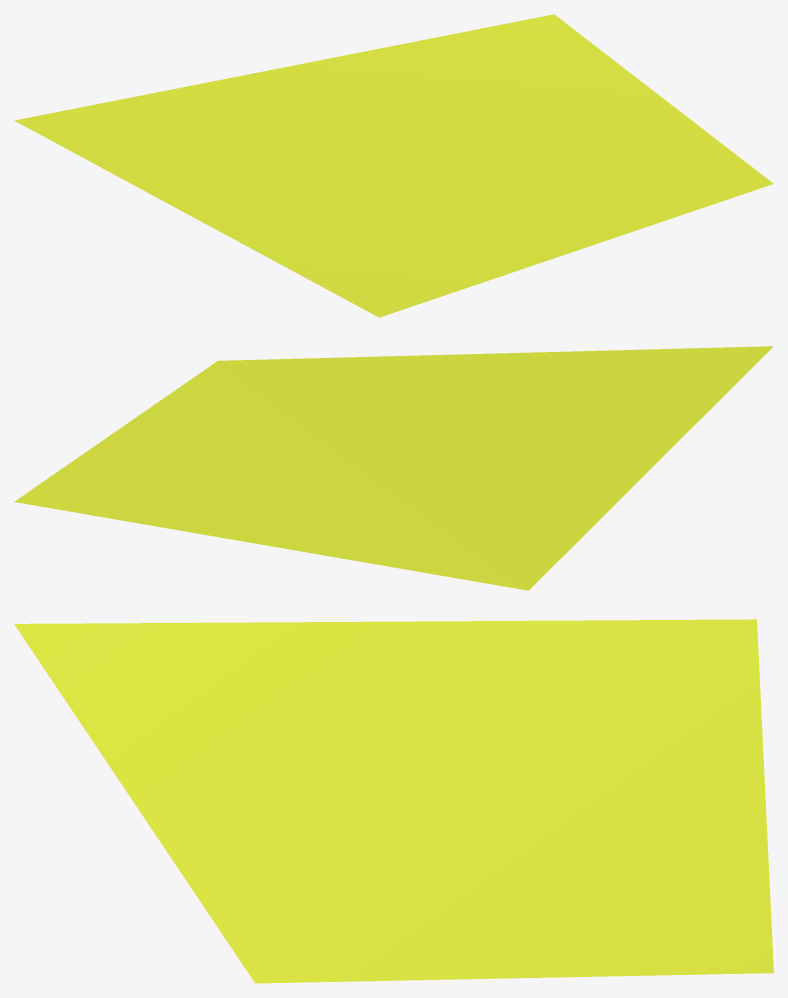
Rendered from b_polySurface664_b_BMW_i8Elite_2_643.glb.
3 renders of one model, top to bottom at view 1: azimuth 30°, elevation 25°; view 2: azimuth 150°, elevation 25°; view 3: azimuth 270°, elevation 25°, orthographic. The views are drawn at different scales.
Parts seen in each view (by area): view 1: b:polySurface664_b:BMW_i8Elite_2017CalliperGloss_Material1_0; view 2: b:polySurface664_b:BMW_i8Elite_2017CalliperGloss_Material1_0; view 3: b:polySurface664_b:BMW_i8Elite_2017CalliperGloss_Material1_0.
Part boxes in pixels (<box>): b:polySurface664_b:BMW_i8Elite_2017CalliperGloss_Material1_0: <box>14,14,773,317</box>; b:polySurface664_b:BMW_i8Elite_2017CalliperGloss_Material1_0: <box>14,346,773,590</box>; b:polySurface664_b:BMW_i8Elite_2017CalliperGloss_Material1_0: <box>14,619,773,983</box>.
Size of the model in its own units: 0.0408 by 0.00443 by 0.0416.
